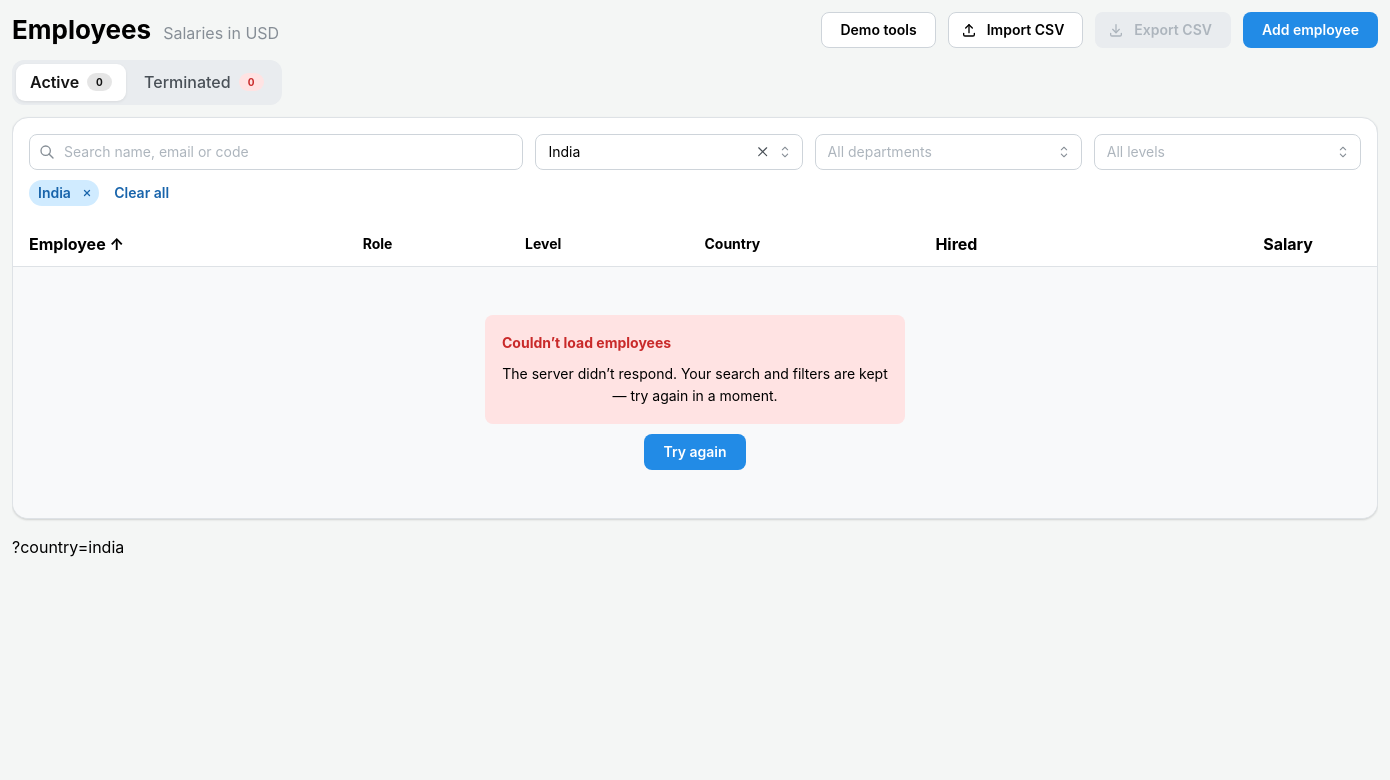
Test: EmployeesPage › shows an error with a retry and keeps the filters
expect the text "Couldn’t load employees" is shown: met, box [502,332,671,353]
expect the text with test id "search" reads "?country=india": met, box [12,537,124,557]
Click the button "Try again" at (695, 452), box [644,434,746,470]
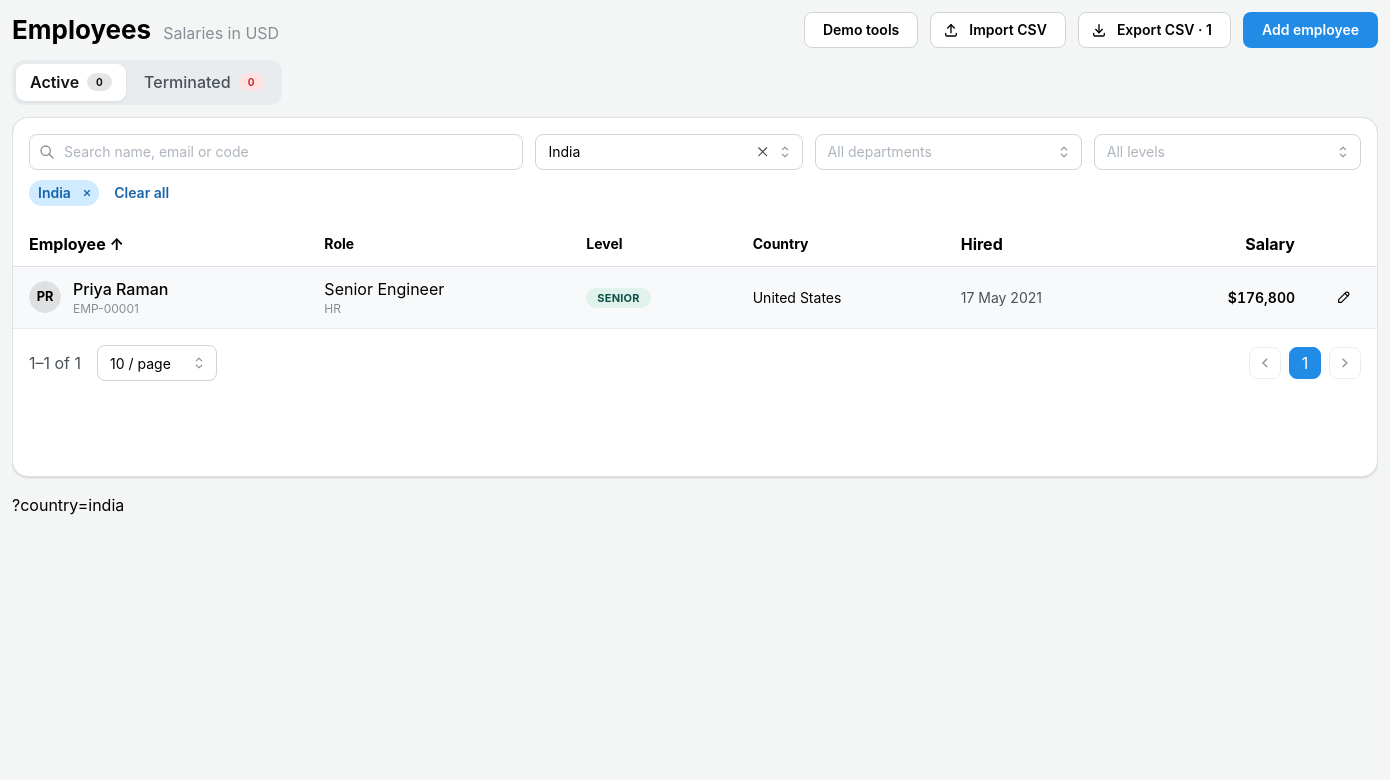
expect the text "Priya Raman" is shown: met, box [73,277,168,301]
